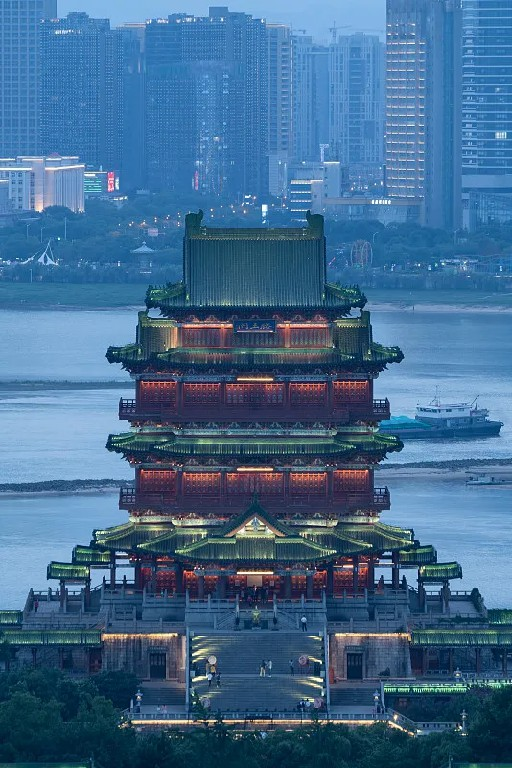Teng: (47, 211, 464, 614)
